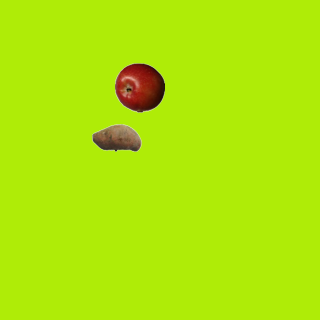Apple Braeburn: (114, 62, 164, 112)
Potato Sweet: (91, 112, 141, 162)
